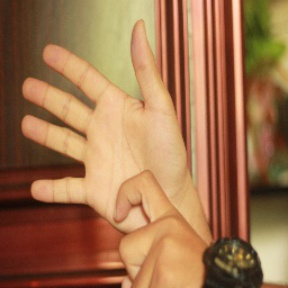R: (16, 18, 205, 288)
